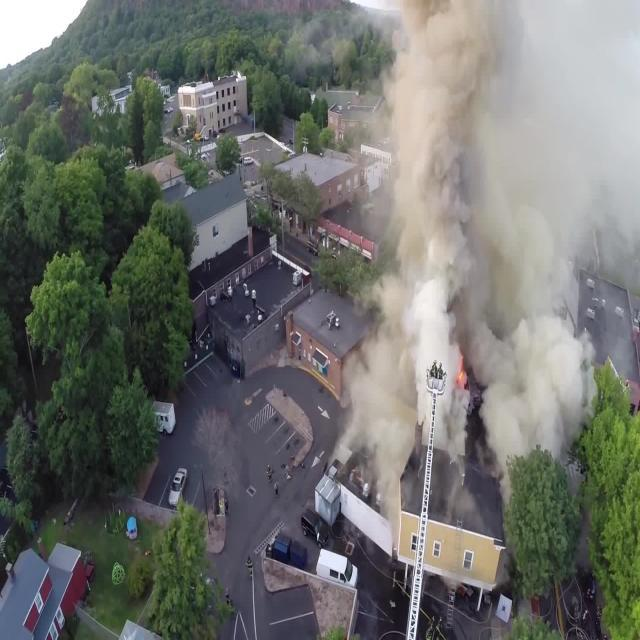Fire: (454, 354, 470, 384)
Smoke: (377, 10, 640, 282), (491, 253, 602, 457), (350, 276, 430, 499)
